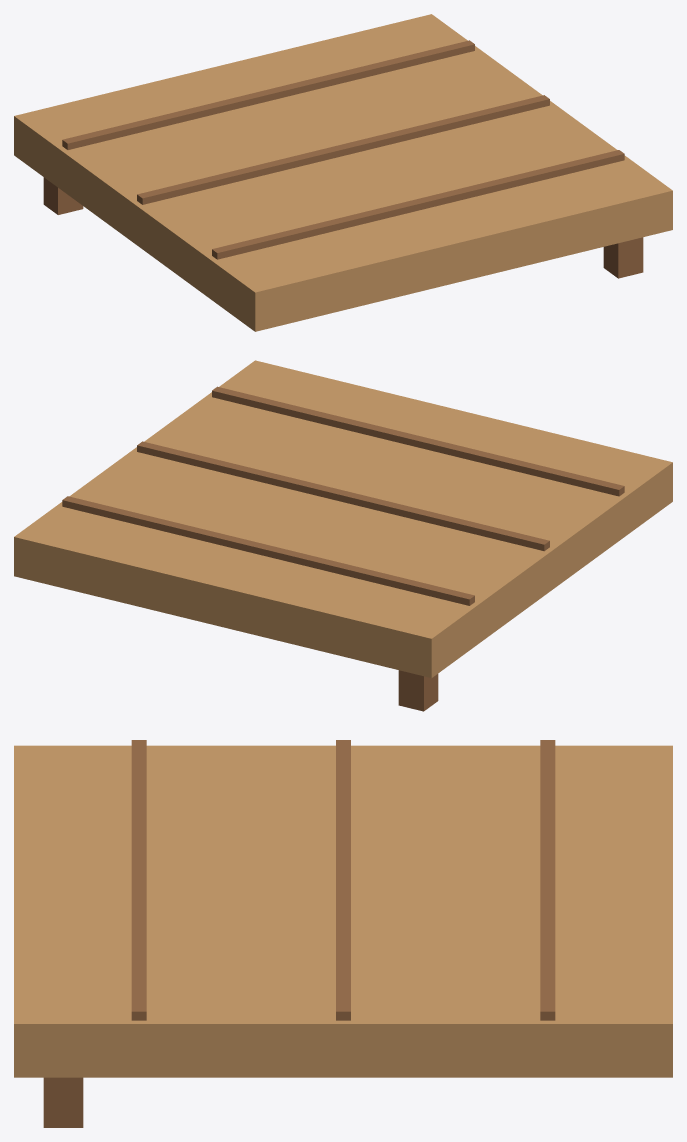
Rendered from floor.glb.
3 renders of one model, top to bottom at view 1: azimuth 30°, elevation 25°; view 2: azimuth 150°, elevation 25°; view 3: azimuth 270°, elevation 25°, orthographic. The views are drawn at different scales.
Size of the model in its own units: 2 by 0.42 by 2.
